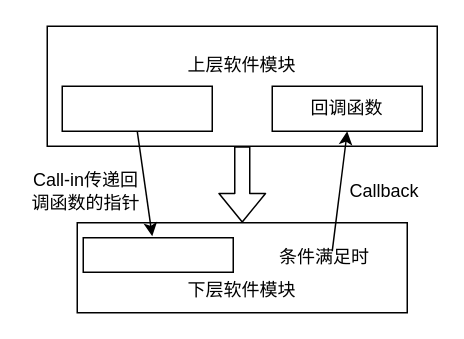
Some shapes in this 464 by 339 pixel diagram are drawn without their labels. The centre of each missing label's shape, as x and y in pixels:
"主程序" goes at point 136,108.
"接口函数" goes at point 157,254.
